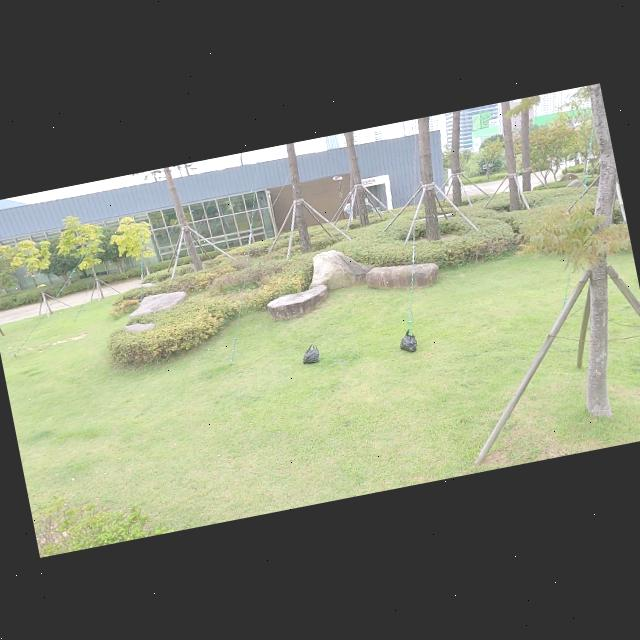trash: (396, 325, 422, 356), (299, 342, 324, 368)
